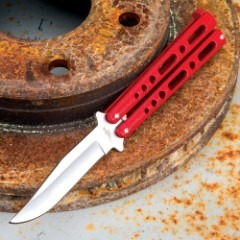knife: (8, 8, 226, 223)
